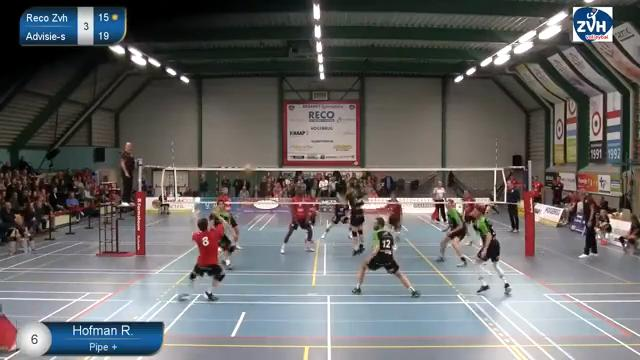Player: (352, 217, 420, 297), (471, 205, 510, 294), (280, 187, 313, 253), (436, 200, 466, 266), (346, 183, 364, 255), (321, 193, 348, 238), (386, 191, 401, 249), (209, 200, 236, 228), (463, 190, 476, 233), (305, 195, 318, 226), (232, 220, 241, 249)
Receive: (173, 203, 231, 307)
ball: (244, 163, 255, 178)
